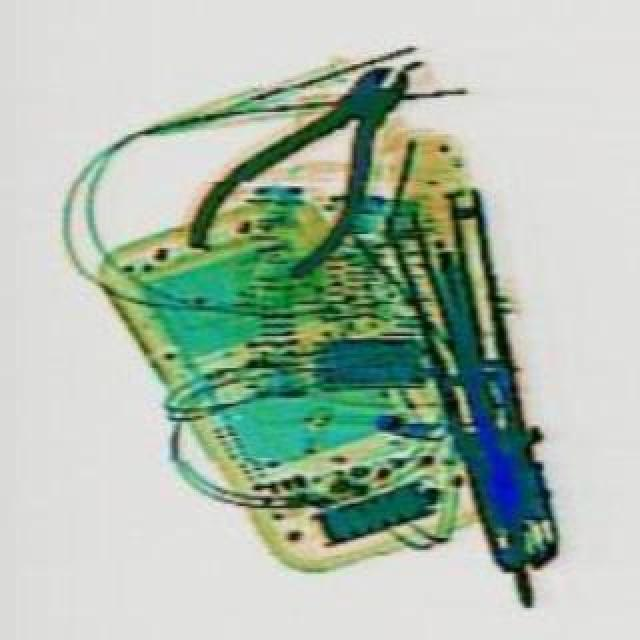wrench: (170, 26, 444, 306)
